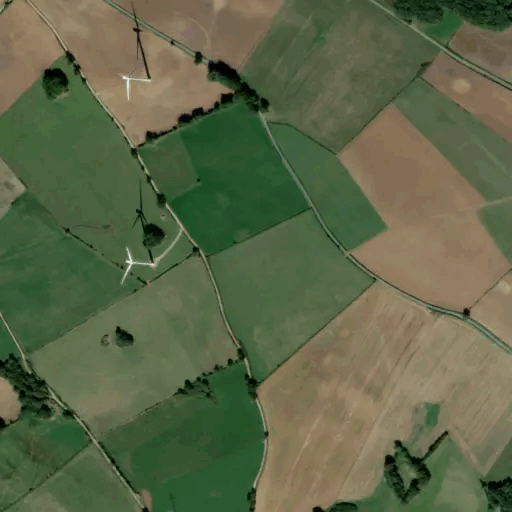wt: (114, 174, 159, 290), (116, 1, 159, 107)
